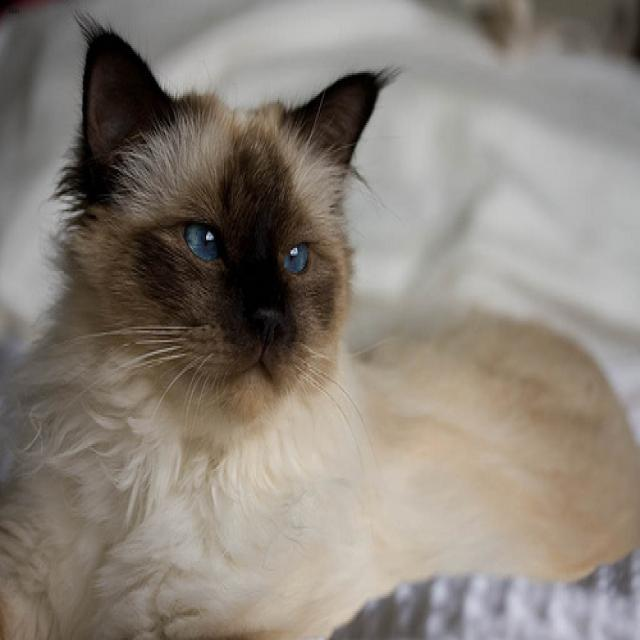Birman: (82, 29, 375, 423)
